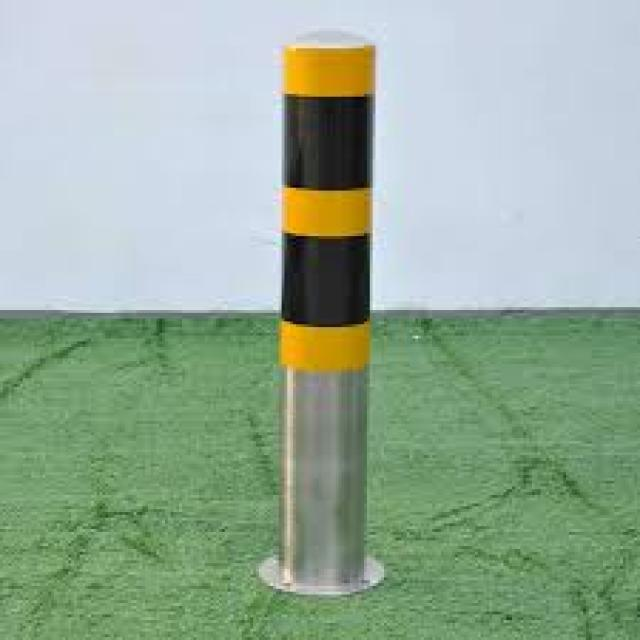bollard: (260, 24, 394, 602)
